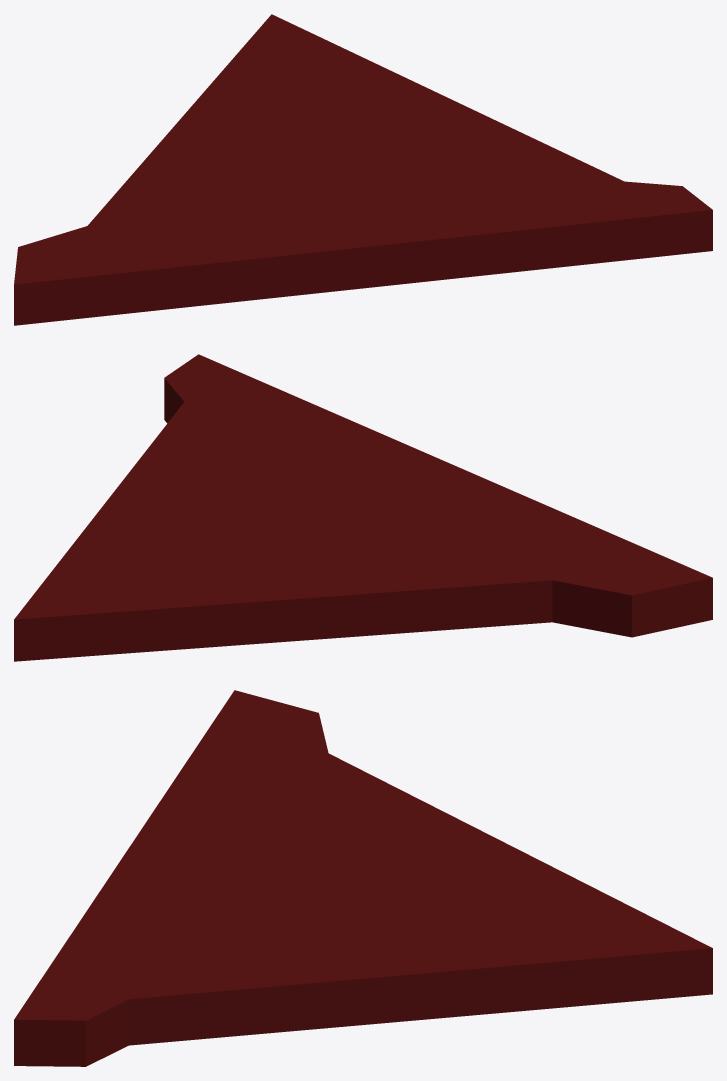
The model's file is Hat_Landing_Endpoint.fbx.
3 renders of one model, top to bottom at view 1: azimuth 30°, elevation 25°; view 2: azimuth 150°, elevation 25°; view 3: azimuth 270°, elevation 25°, orthographic. The views are drawn at different scales.
Parts seen in each view (by area): view 1: Hat_Landing_Endpoint; view 2: Hat_Landing_Endpoint; view 3: Hat_Landing_Endpoint.
Boxes of the visible parts, x1=… form: Hat_Landing_Endpoint: x1=14, y1=14, x2=712, y2=325; Hat_Landing_Endpoint: x1=14, y1=354, x2=712, y2=661; Hat_Landing_Endpoint: x1=14, y1=690, x2=712, y2=1066.
Bounding box in the file's own units: 1533 × 100 × 1370.
